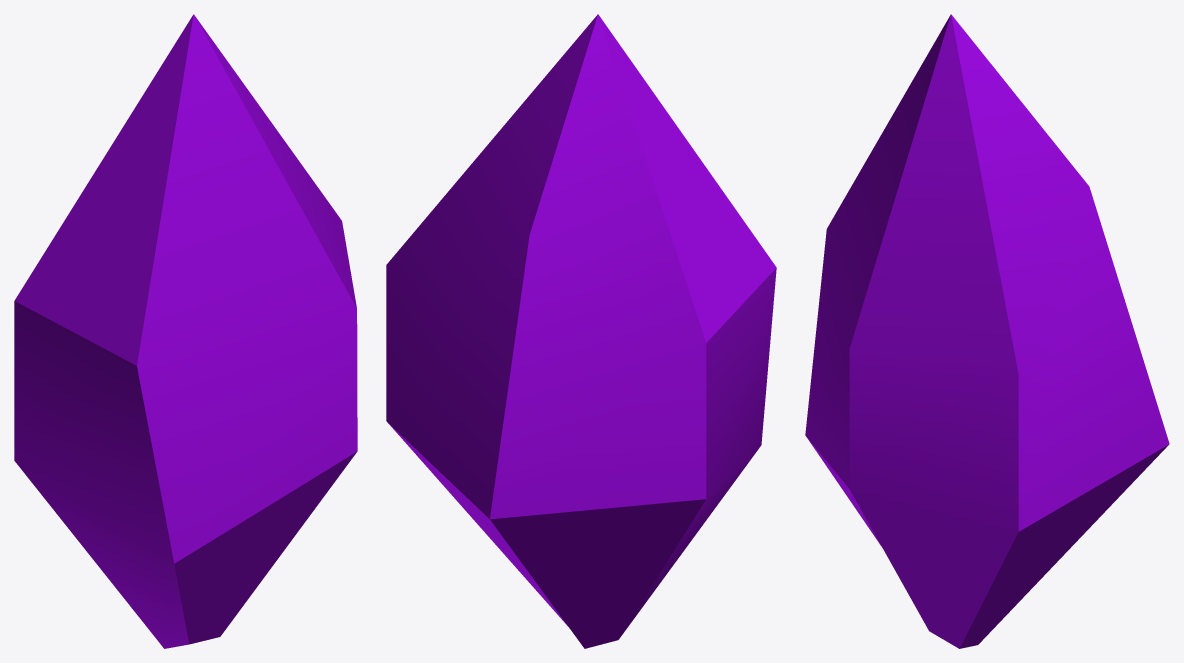
The model's file is Crystal.fbx.
3 views of the same model, side by side, from view 1: azimuth 30°, elevation 25°; view 2: azimuth 150°, elevation 25°; view 3: azimuth 270°, elevation 25° (orthographic). The views are drawn at different scales.
Visible parts, largest first — view 1: Crystal; view 2: Crystal; view 3: Crystal.
Boxes of the visible parts, x1,y1,x2,y2 form: Crystal: (14, 14, 357, 648); Crystal: (386, 14, 776, 648); Crystal: (805, 14, 1169, 648).
Size of the model in its own units: 32.3 by 60.3 by 31.55.
